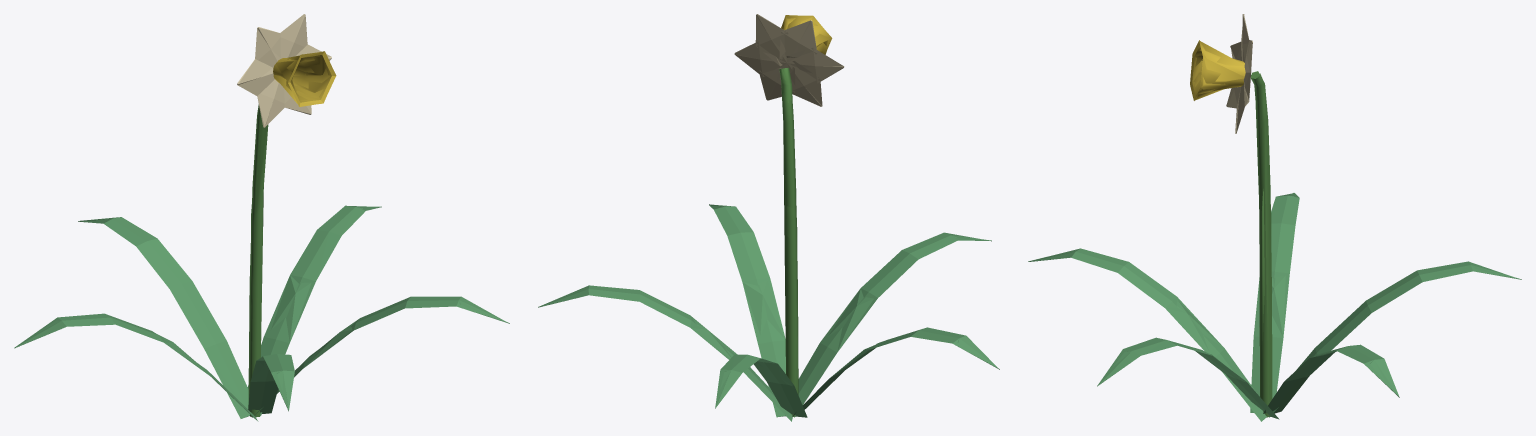
Rendered from daffodil_b.glb.
The picture shows the model from 3 angles, left to right: view 1: azimuth 30°, elevation 25°; view 2: azimuth 150°, elevation 25°; view 3: azimuth 270°, elevation 25°; orthographic projection. The views are drawn at different scales.
Parts seen in each view (by area): view 1: leaf_nl, body__far, petal_cream_nl, stem, petal_yellow_nl; view 2: leaf_nl, body__far, petal_cream_nl, stem, petal_yellow_nl; view 3: leaf_nl, body__far, stem, petal_cream_nl, petal_yellow_nl.
Part boxes in pixels (left/top/right/bottom): leaf_nl: left=14, top=206, right=509, bottom=421; body__far: left=16, top=51, right=503, bottom=416; petal_cream_nl: left=237, top=14, right=331, bottom=127; stem: left=248, top=104, right=263, bottom=417; petal_yellow_nl: left=273, top=51, right=336, bottom=106; leaf_nl: left=538, top=204, right=999, bottom=421; body__far: left=540, top=15, right=996, bottom=407; petal_cream_nl: left=734, top=14, right=844, bottom=106; stem: left=779, top=68, right=798, bottom=416; petal_yellow_nl: left=781, top=15, right=832, bottom=54; leaf_nl: left=1028, top=193, right=1521, bottom=421; body__far: left=1030, top=40, right=1509, bottom=416; stem: left=1251, top=75, right=1272, bottom=417; petal_cream_nl: left=1226, top=14, right=1252, bottom=133; petal_yellow_nl: left=1191, top=40, right=1245, bottom=100.
Size of the model in its own units: 17.74 by 16.05 by 18.07.
